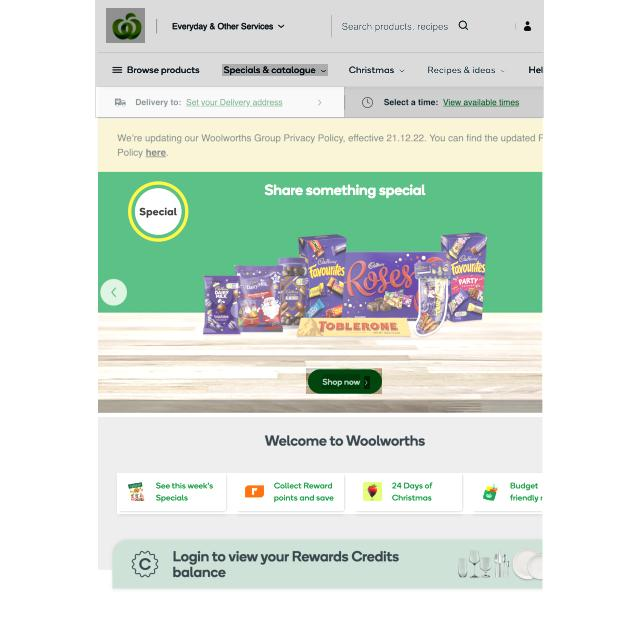CheckBox: (96, 87, 344, 117), (345, 87, 542, 117), (306, 368, 382, 394), (516, 13, 541, 39)
CheckedTextView: (332, 11, 479, 41)
ProgressBar: (97, 118, 542, 172)
Switch: (98, 171, 543, 417), (322, 374, 360, 389)
alert: (169, 19, 289, 32), (222, 64, 328, 76), (426, 63, 508, 77), (348, 64, 408, 76)
bag: (95, 0, 544, 118)
carousel: (457, 17, 470, 34), (364, 376, 369, 389)
date picker: (106, 8, 145, 43)
decoration: (117, 474, 552, 516), (106, 61, 547, 79), (110, 64, 124, 76)
footer: (340, 20, 450, 33)
